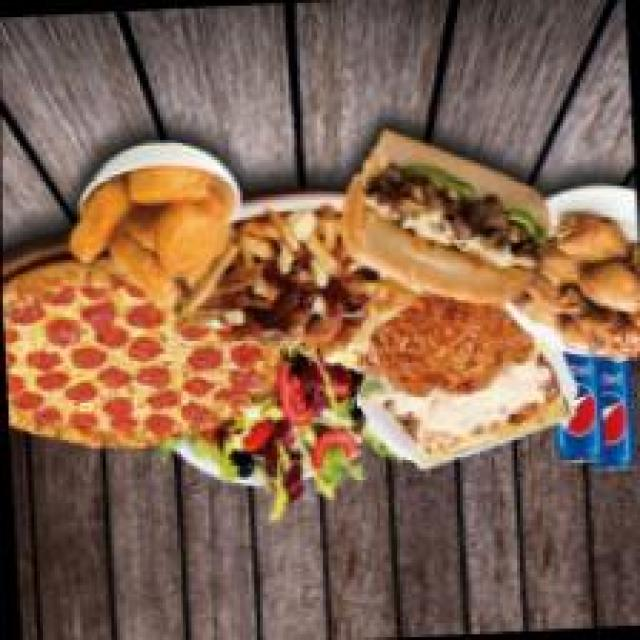Chicken Wings: (523, 211, 640, 383)
